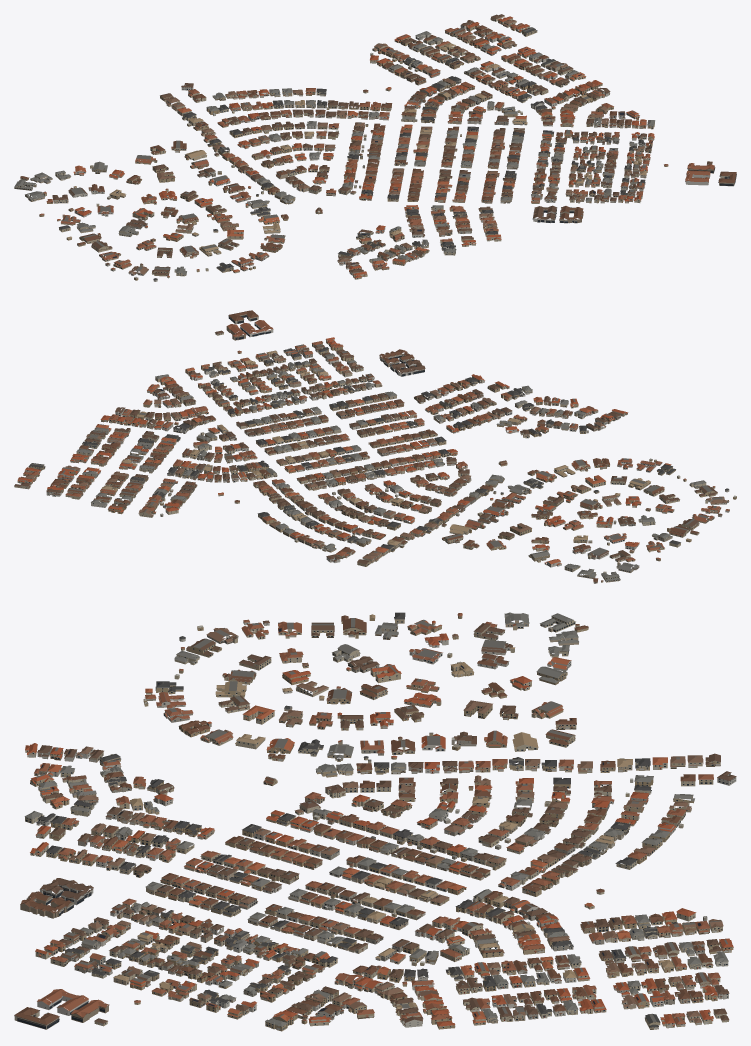
The picture shows the model from 3 angles, top to bottom: view 1: azimuth 30°, elevation 25°; view 2: azimuth 150°, elevation 25°; view 3: azimuth 270°, elevation 25°; orthographic projection. The views are drawn at different scales.
Visible parts, largest first — view 1: buildings_r2_c4_lod0; view 2: buildings_r2_c4_lod0; view 3: buildings_r2_c4_lod0.
Part boxes in pixels (x1,y1,x2,y2): buildings_r2_c4_lod0: (14,14,736,281); buildings_r2_c4_lod0: (14,310,736,583); buildings_r2_c4_lod0: (14,612,736,1031).
Size of the model in its own units: 1126 by 29.53 by 819.
